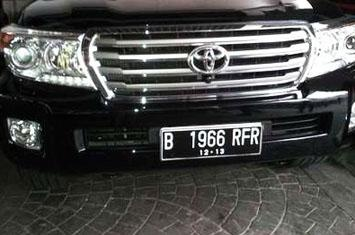plate: (162, 129, 262, 155)
